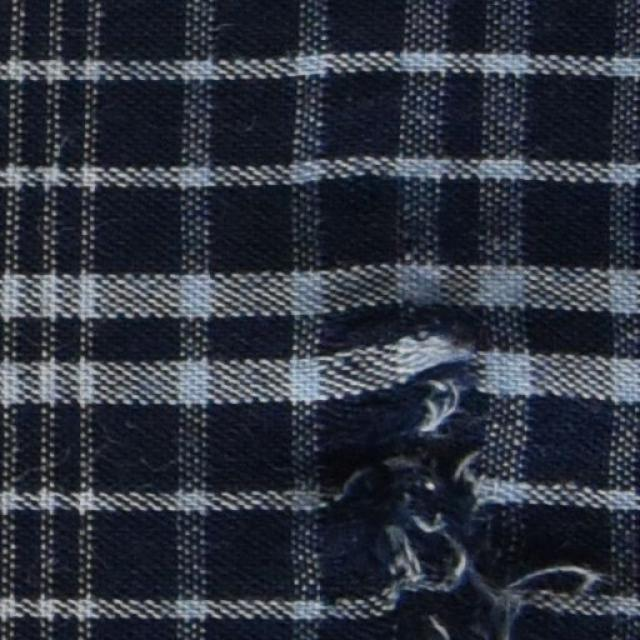Snag: (345, 308, 592, 639)
